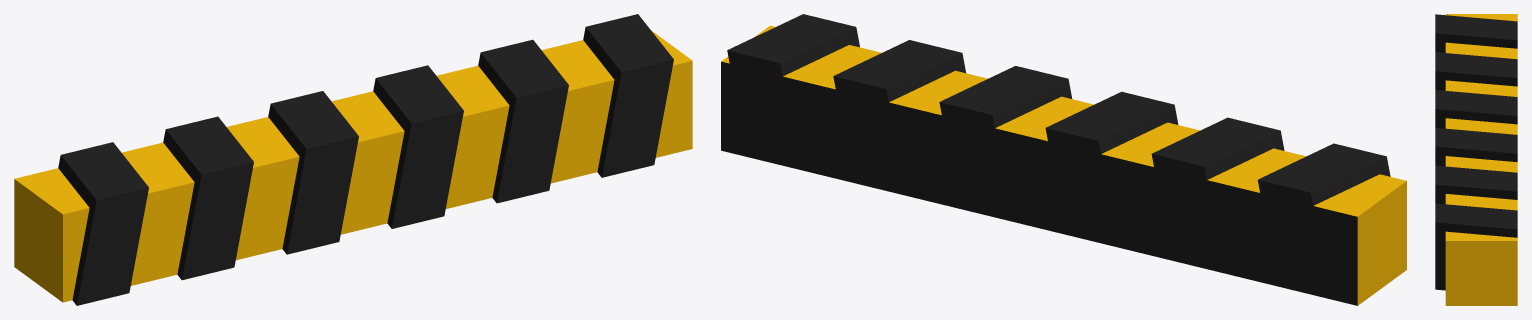
File: Prop_Industrial_Barrier_Striped_01.FBX
The picture shows the model from 3 angles, left to right: view 1: azimuth 30°, elevation 25°; view 2: azimuth 150°, elevation 25°; view 3: azimuth 270°, elevation 25°; orthographic projection. The views are drawn at different scales.
Parts seen in each view (by area): view 1: Prop_Industrial_Barrier_Striped_01; view 2: Prop_Industrial_Barrier_Striped_01; view 3: Prop_Industrial_Barrier_Striped_01.
Part boxes in pixels (x1,y1,x2,y2): Prop_Industrial_Barrier_Striped_01: (14, 14, 692, 305); Prop_Industrial_Barrier_Striped_01: (721, 14, 1406, 305); Prop_Industrial_Barrier_Striped_01: (1435, 14, 1517, 305).
Size of the model in its own units: 2492 by 381 by 381.
